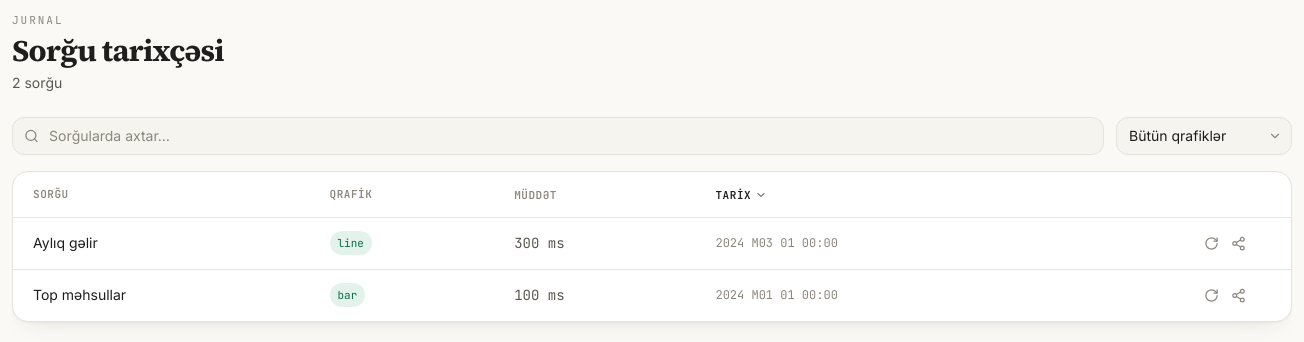
HistoryPage › search narrows the visible rows
Expected: the text "Aylıq gəlir" is shown, [33,233,98,253]
Type "gəlir" into the field with placeholder "Sorğularda axtar…" at (558, 136), box [12,116,1104,154]
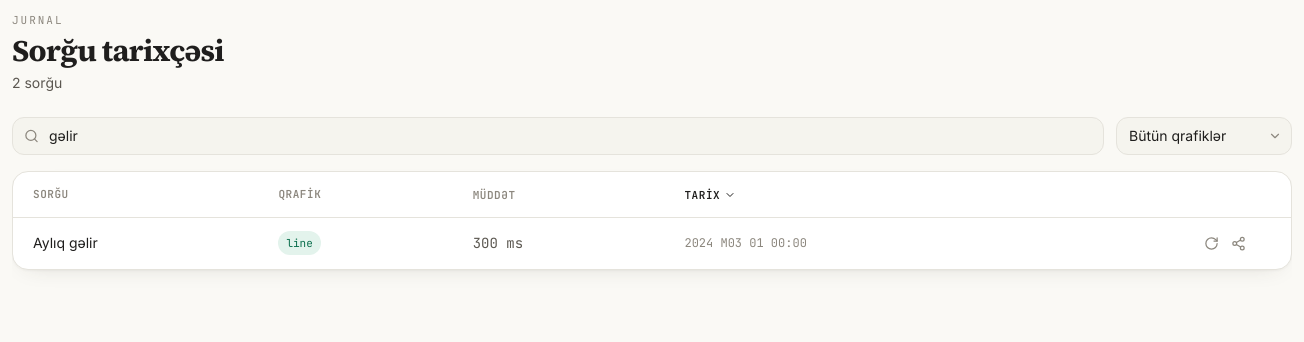
Expected: the text "Aylıq gəlir" is shown, [33,233,98,253]
Expected: the button "Top məhsullar" is gone
